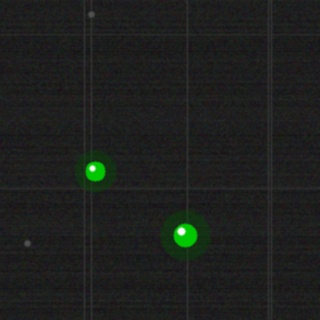green_normal: (171, 221, 199, 249), (83, 159, 107, 183)
